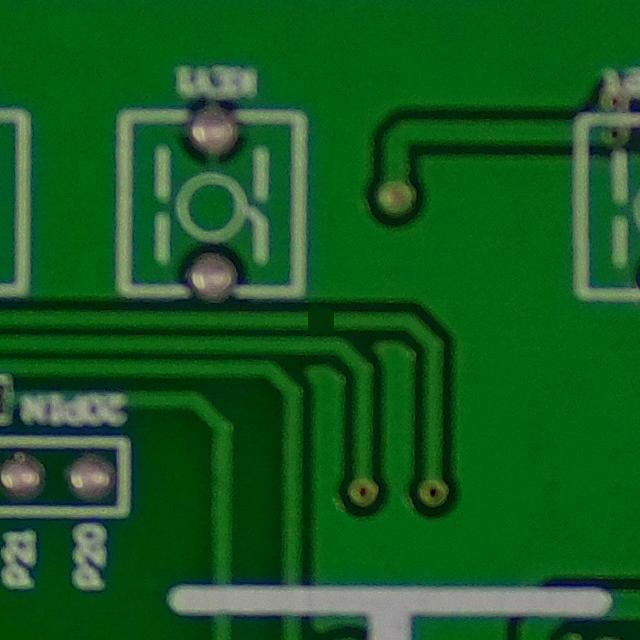open_circuit: (299, 303, 341, 338)
